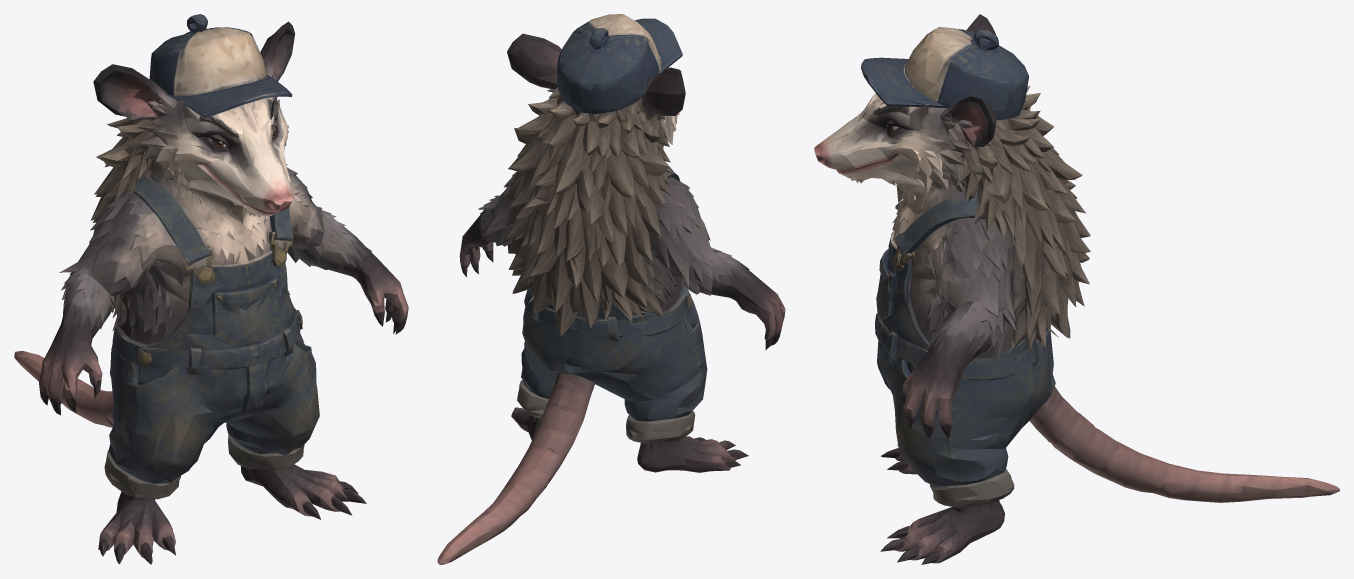
Rendered from theo_meshy_12k_v01.glb.
The picture shows the model from 3 angles, left to right: view 1: azimuth 30°, elevation 25°; view 2: azimuth 150°, elevation 25°; view 3: azimuth 270°, elevation 25°; orthographic projection. The views are drawn at different scales.
Parts seen in each view (by area): view 1: output_unwrapped; view 2: output_unwrapped; view 3: output_unwrapped.
Part boxes in pixels (x1,y1,x2,y2): output_unwrapped: (14,14,408,564); output_unwrapped: (437,14,785,564); output_unwrapped: (814,14,1339,564).
Bounding box in the file's own units: 1.45 × 1.89 × 1.9.
1 material, 1 textured.
